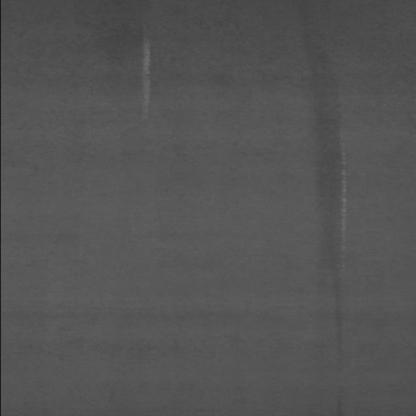crease: (294, 16, 365, 343)
